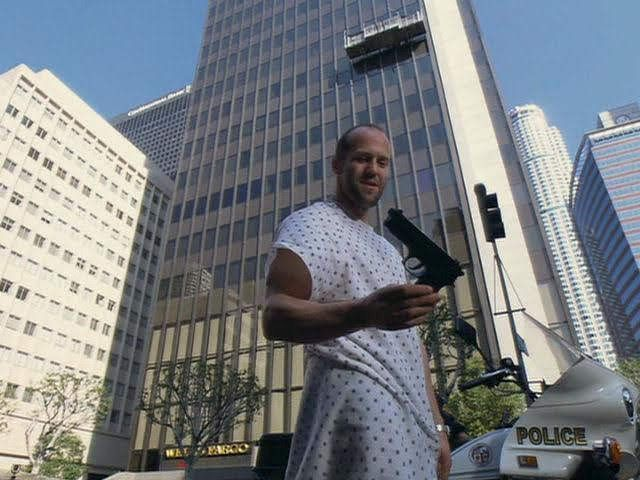gun: (375, 201, 469, 309)
